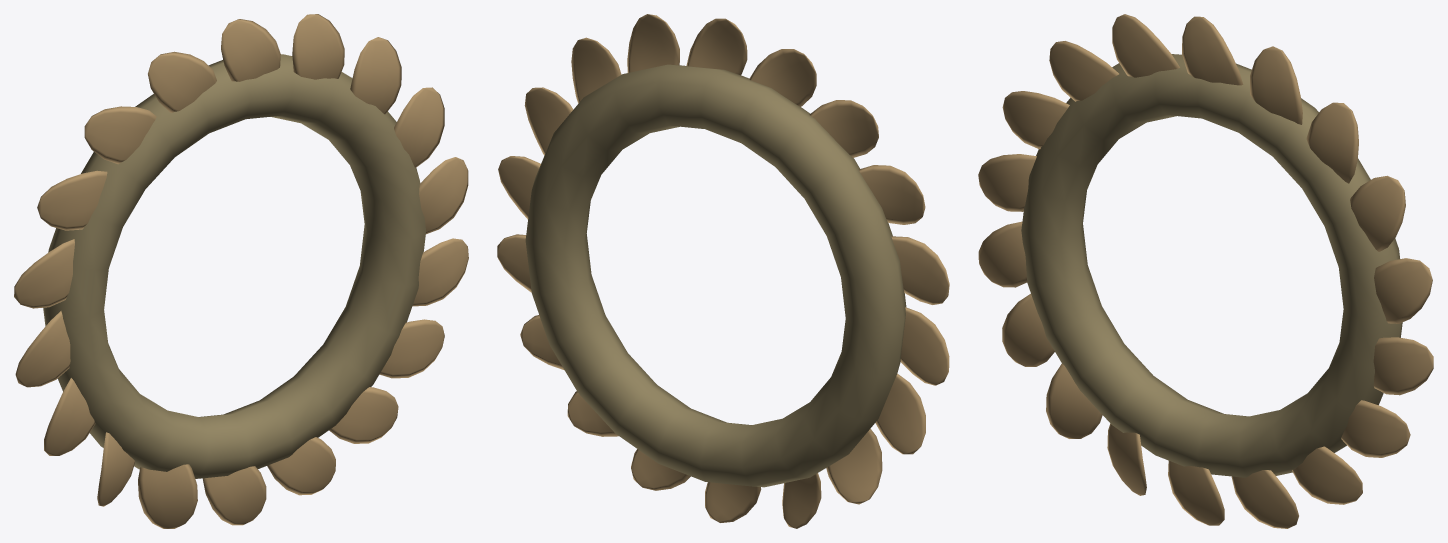
The model's file is wreath.glb.
The picture shows the model from 3 angles, left to right: view 1: azimuth 30°, elevation 25°; view 2: azimuth 150°, elevation 25°; view 3: azimuth 330°, elevation 25°; orthographic projection.
Visible parts, largest first — view 1: bound-wreath-ring, wreath-leaf-12, wreath-leaf-5, wreath-leaf-4, wreath-leaf-6, wreath-leaf-3, wreath-leaf-7, wreath-leaf-2, wreath-leaf-8, wreath-leaf-13, wreath-leaf-1, wreath-leaf-0 (+7 smaller); view 2: bound-wreath-ring, wreath-leaf-9, wreath-leaf-10, wreath-leaf-8, wreath-leaf-11, wreath-leaf-7, wreath-leaf-6, wreath-leaf-5, wreath-leaf-4, wreath-leaf-3, wreath-leaf-2, wreath-leaf-1 (+7 smaller); view 3: bound-wreath-ring, wreath-leaf-1, wreath-leaf-0, wreath-leaf-2, wreath-leaf-17, wreath-leaf-3, wreath-leaf-16, wreath-leaf-4, wreath-leaf-15, wreath-leaf-5, wreath-leaf-11, wreath-leaf-6 (+7 smaller).
Boxes of the visible parts, box(x1,y1,x2,y2) form: bound-wreath-ring: box(43, 54, 426, 478); wreath-leaf-12: box(138, 464, 197, 528); wreath-leaf-5: box(148, 51, 216, 112); wreath-leaf-4: box(221, 19, 280, 81); wreath-leaf-6: box(84, 106, 156, 164); wreath-leaf-3: box(292, 14, 344, 79); wreath-leaf-7: box(37, 170, 107, 230); wreath-leaf-2: box(350, 37, 401, 114); wreath-leaf-8: box(14, 239, 74, 308); wreath-leaf-13: box(202, 466, 266, 525); wreath-leaf-1: box(394, 87, 444, 167); wreath-leaf-0: box(419, 157, 468, 234); bound-wreath-ring: box(525, 64, 906, 487); wreath-leaf-9: box(900, 307, 949, 385); wreath-leaf-10: box(875, 373, 925, 454); wreath-leaf-8: box(891, 236, 949, 304); wreath-leaf-11: box(826, 429, 882, 504); wreath-leaf-7: box(859, 165, 925, 224); wreath-leaf-6: box(809, 100, 878, 157); wreath-leaf-5: box(749, 49, 816, 106); wreath-leaf-4: box(686, 18, 747, 75); wreath-leaf-3: box(627, 14, 679, 72); wreath-leaf-2: box(571, 37, 621, 103); wreath-leaf-1: box(524, 87, 573, 155); bound-wreath-ring: box(1021, 54, 1402, 477); wreath-leaf-1: box(1350, 175, 1405, 251); wreath-leaf-0: box(1374, 258, 1432, 323); wreath-leaf-2: box(1306, 102, 1358, 183); wreath-leaf-17: box(1373, 337, 1433, 395); wreath-leaf-3: box(1250, 46, 1302, 124); wreath-leaf-16: box(1341, 400, 1410, 457); wreath-leaf-4: box(1182, 16, 1243, 85); wreath-leaf-15: box(1292, 446, 1362, 504); wreath-leaf-5: box(1112, 14, 1179, 77); wreath-leaf-11: box(1046, 363, 1102, 438); wreath-leaf-6: box(1049, 41, 1118, 101).
Bounding box in the file's own units: 0.7908 × 0.844 × 0.0987.
